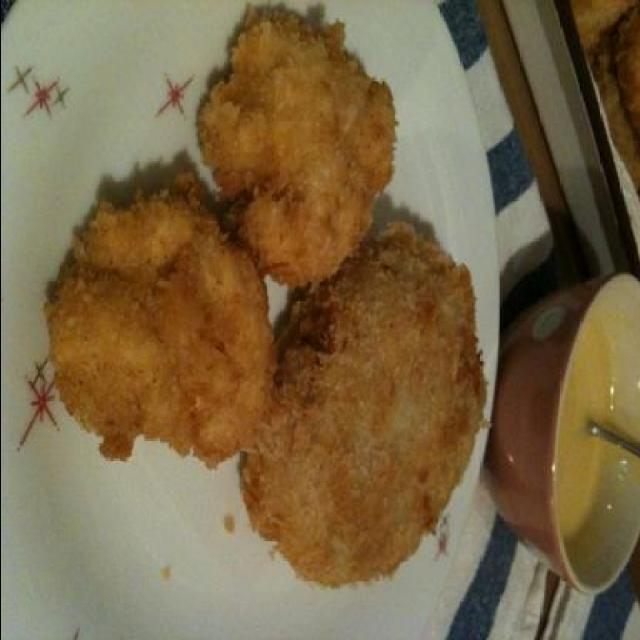Chicken nugget: (31, 23, 487, 609)
